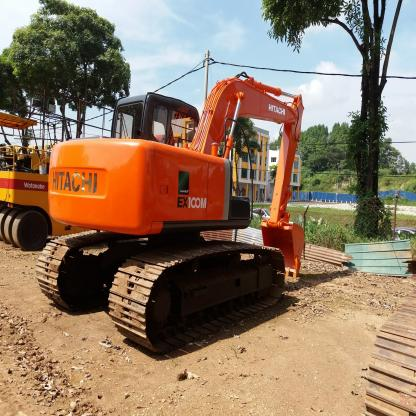excavator: (37, 44, 316, 351)
